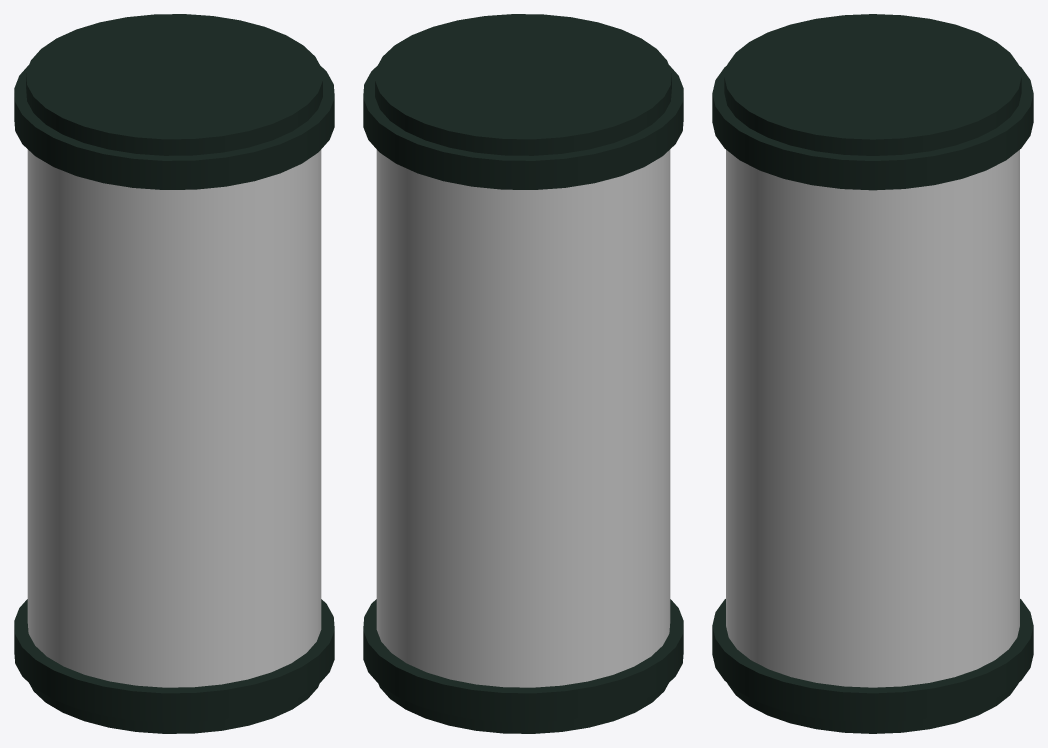
The model's file is GlassLab.fbx.
3 views of the same model, side by side, from view 1: azimuth 30°, elevation 25°; view 2: azimuth 150°, elevation 25°; view 3: azimuth 270°, elevation 25° (orthographic).
Parts seen in each view (by area): view 1: GlassLab; view 2: GlassLab; view 3: GlassLab.
Boxes of the visible parts, box(x1,y1,x2,y2) form: GlassLab: box(14, 14, 334, 733); GlassLab: box(363, 14, 683, 733); GlassLab: box(712, 14, 1033, 733).
Size of the model in its own units: 20.93 by 42.72 by 20.93.
